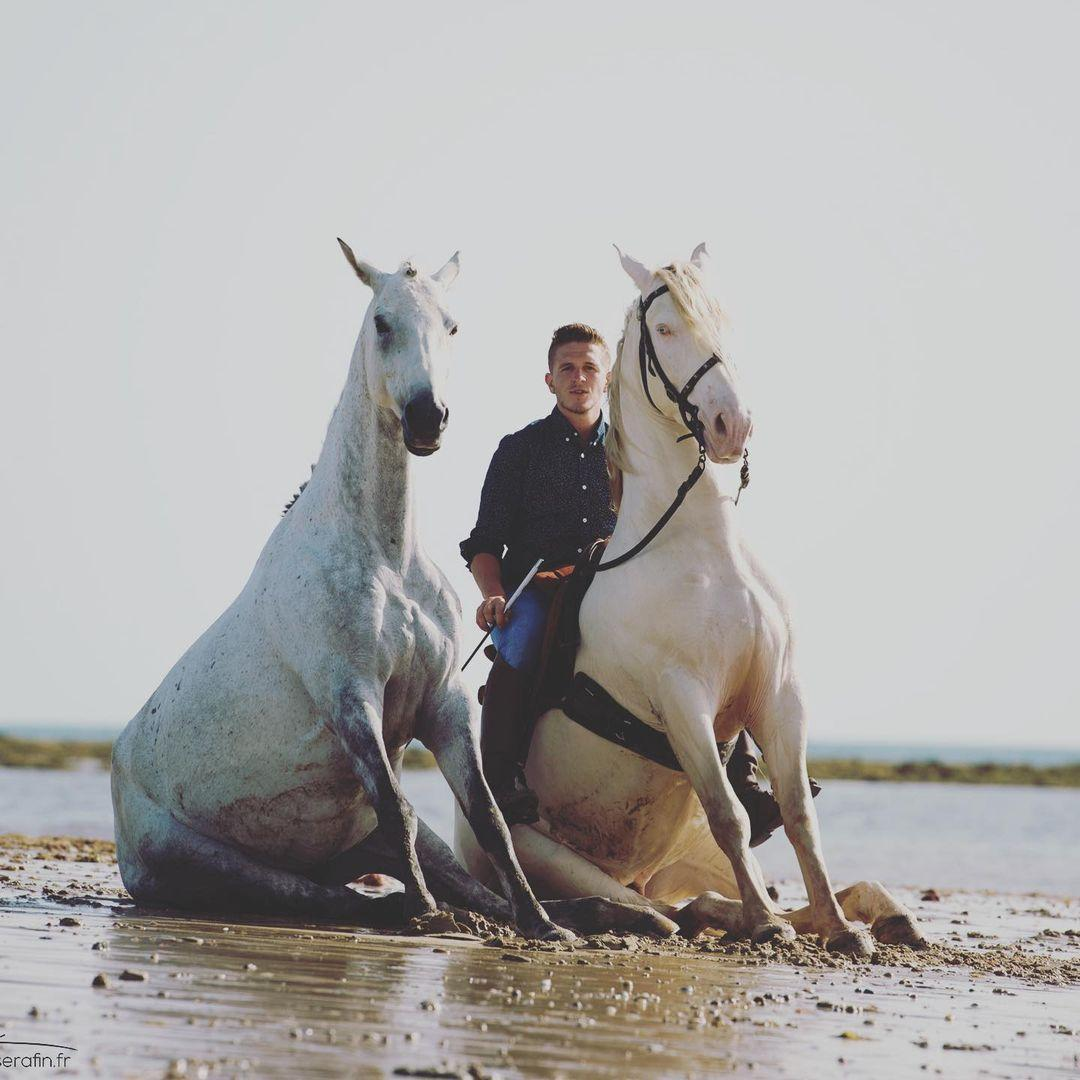horse: (453, 239, 929, 959), (108, 234, 580, 945)
